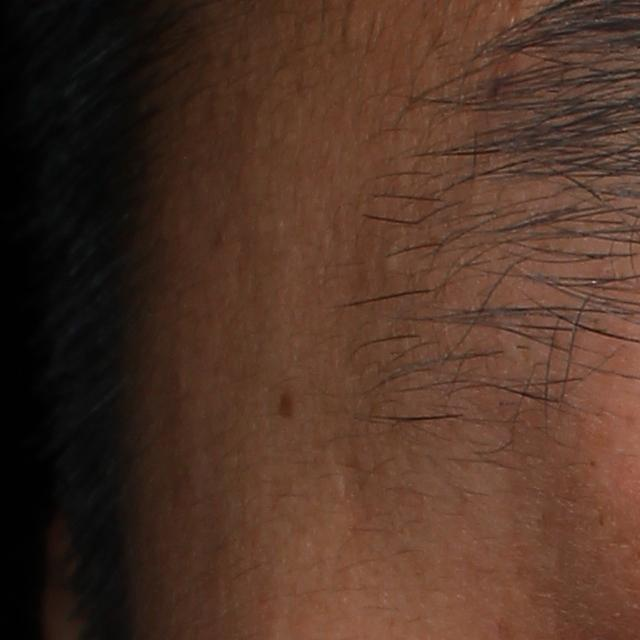nevus: (278, 386, 298, 418)
